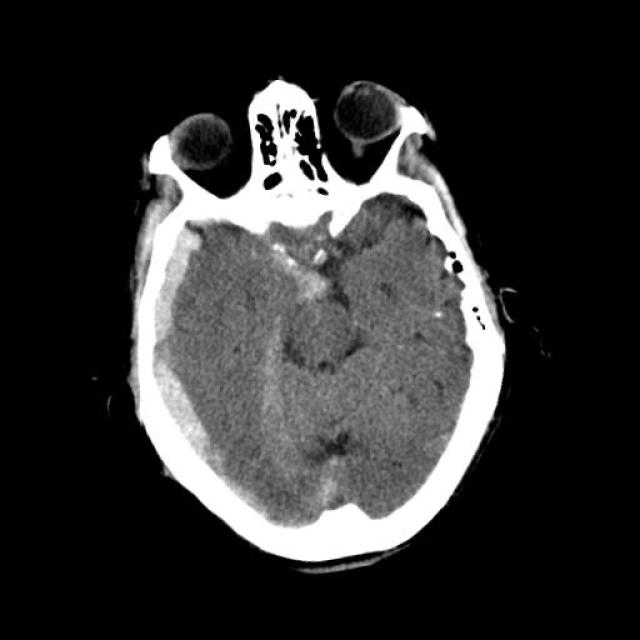Subdural: (104, 220, 248, 519)
